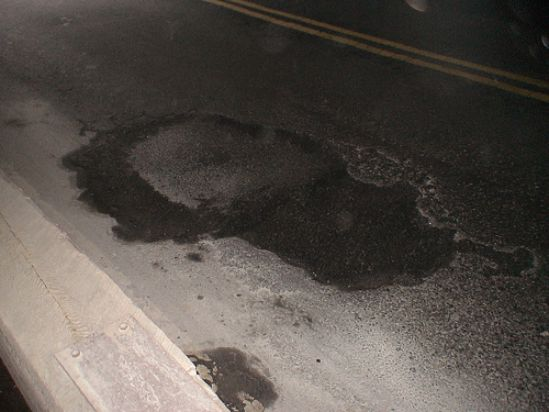pothole: (57, 108, 477, 294)
